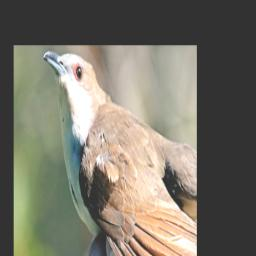Cuckoo: (43, 52, 197, 256)
